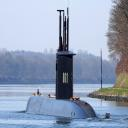submarine: (27, 1, 111, 120)
